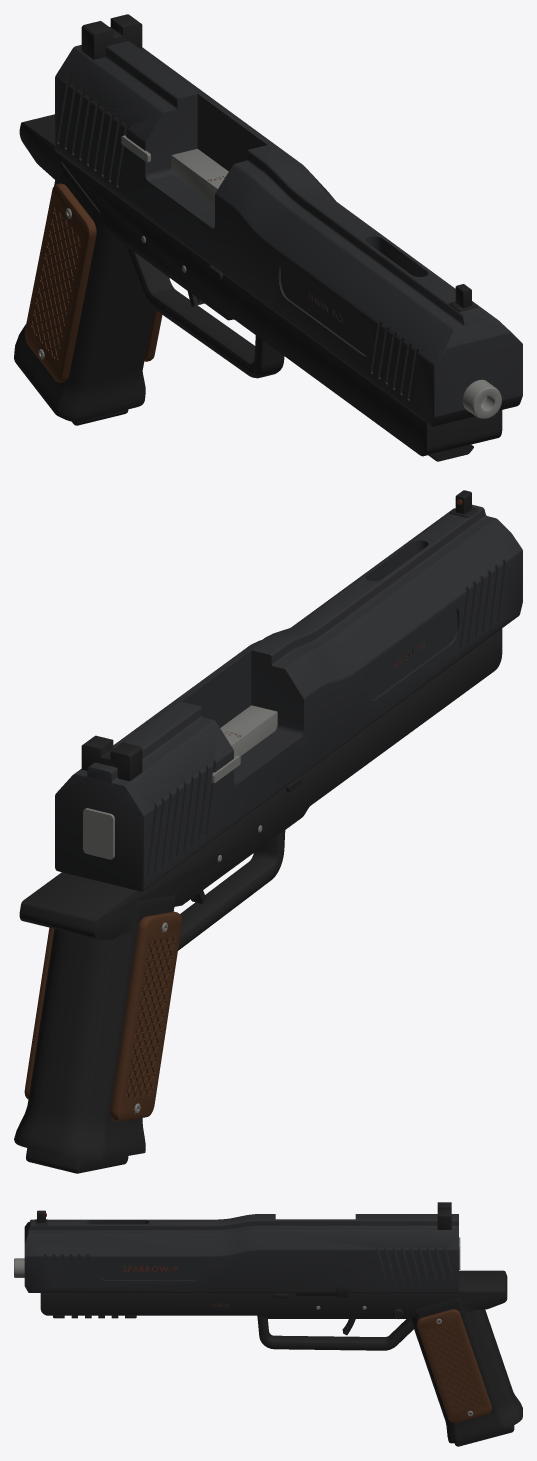
The model's file is Sparrow9.fbx.
3 renders of one model, top to bottom at view 1: azimuth 30°, elevation 25°; view 2: azimuth 150°, elevation 25°; view 3: azimuth 270°, elevation 25°, orthographic. The views are drawn at different scales.
Parts seen in each view (by area): view 1: RBX_SP9_Slide_DarkSteel, RBX_Body_PolyBlack, RBX_Body_Walnut, RBX_Body_Steel, RBX_SP9_Slide_Blackened, RBX_Body_Blackened; view 2: RBX_SP9_Slide_DarkSteel, RBX_Body_PolyBlack, RBX_Body_Walnut, RBX_SP9_Slide_Blackened, RBX_Body_Steel, RBX_SP9_Slide_Steel, RBX_SP9_Magazine_PolyBlack; view 3: RBX_SP9_Slide_DarkSteel, RBX_Body_PolyBlack, RBX_Body_Walnut, RBX_Body_Blackened, RBX_SP9_Slide_Blackened, RBX_Body_Steel.
Part boxes in pixels (<box>): RBX_SP9_Slide_DarkSteel: <box>55,41,522,426</box>; RBX_Body_PolyBlack: <box>14,114,502,456</box>; RBX_Body_Walnut: <box>24,183,169,382</box>; RBX_Body_Steel: <box>38,149,501,418</box>; RBX_SP9_Slide_Blackened: <box>81,14,478,312</box>; RBX_Body_Blackened: <box>208,265,473,461</box>; RBX_SP9_Slide_DarkSteel: <box>55,504,522,891</box>; RBX_Body_PolyBlack: <box>14,628,502,1159</box>; RBX_Body_Walnut: <box>24,911,182,1121</box>; RBX_SP9_Slide_Blackened: <box>81,490,478,781</box>; RBX_Body_Steel: <box>134,705,277,1113</box>; RBX_SP9_Slide_Steel: <box>83,755,240,859</box>; RBX_SP9_Magazine_PolyBlack: <box>26,1148,128,1173</box>; RBX_SP9_Slide_DarkSteel: <box>24,1214,458,1292</box>; RBX_Body_PolyBlack: <box>40,1270,522,1443</box>; RBX_Body_Walnut: <box>416,1309,491,1423</box>; RBX_Body_Blackened: <box>53,1288,403,1319</box>; RBX_SP9_Slide_Blackened: <box>35,1202,451,1229</box>; RBX_Body_Steel: <box>14,1258,473,1416</box>.
Bounding box in the file's own units: 0.26 × 1.02 × 2.04.
